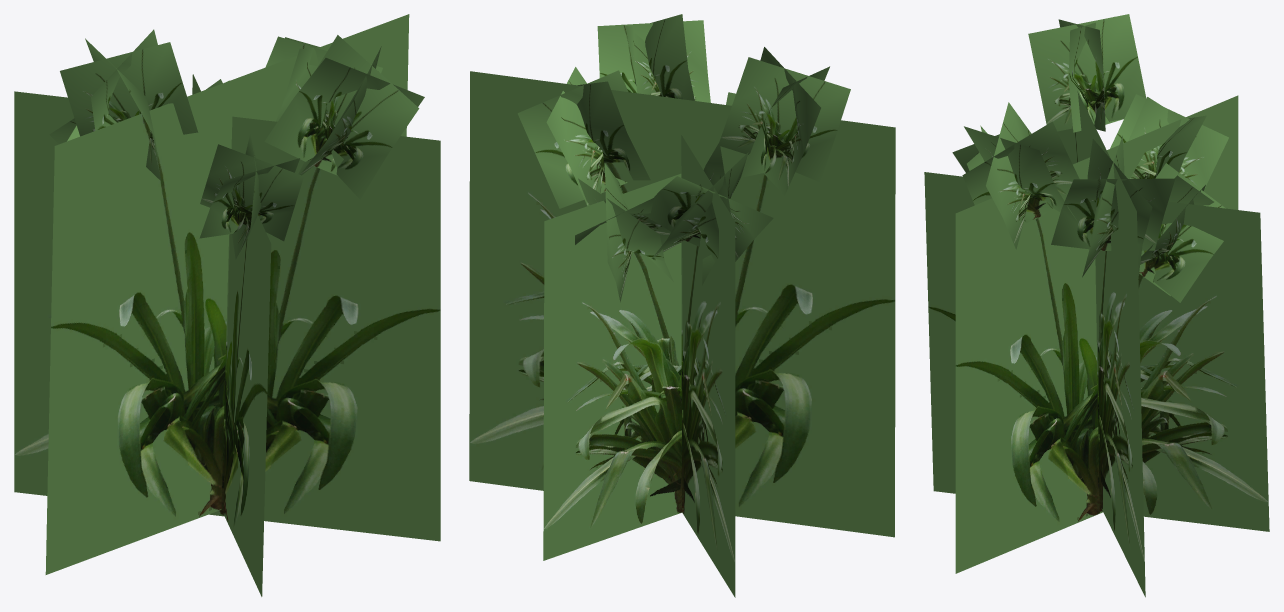
The model's file is gs_flower14.glb.
3 views of the same model, side by side, from view 1: azimuth 30°, elevation 25°; view 2: azimuth 150°, elevation 25°; view 3: azimuth 270°, elevation 25° (orthographic). The views are drawn at different scales.
Parts seen in each view (by area): view 1: grass, flower; view 2: grass, flower; view 3: grass, flower.
Part boxes in pixels (x1,y1,x2,y2): grass: (14,14,440,596); flower: (49,29,424,259); grass: (469,71,895,597); flower: (517,14,850,302); grass: (924,91,1269,597); flower: (952,14,1228,302).
Bounding box in the file's own units: 59.31 × 70.18 × 48.32.
Materials: 1 (1 with a texture image).
